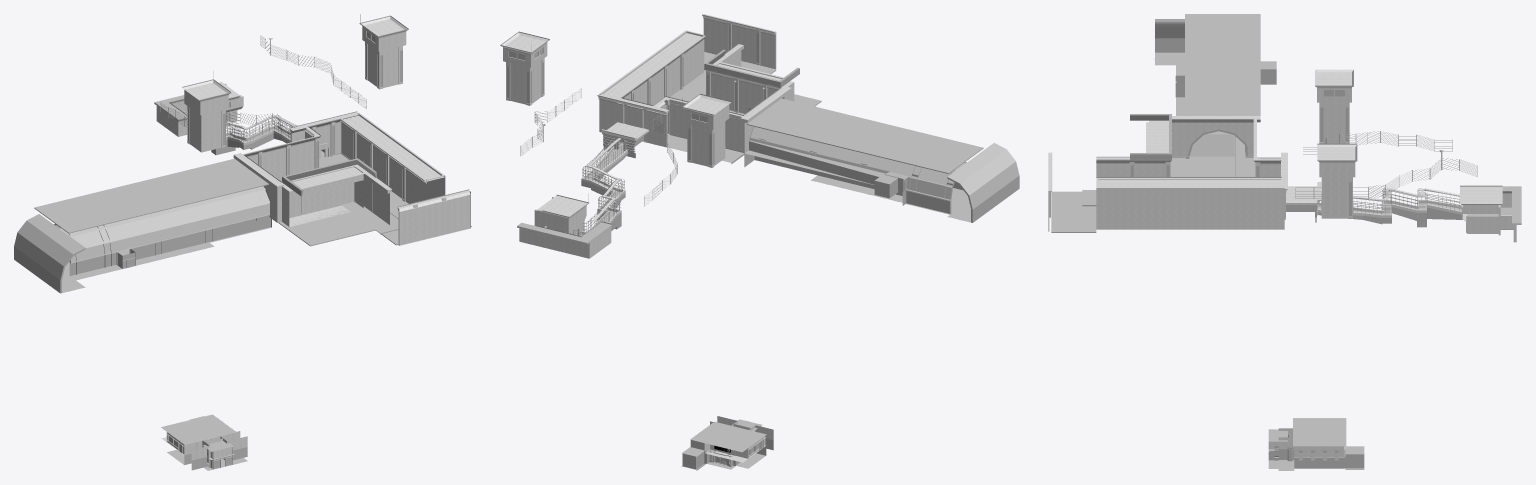
Rendered from exit1_opt.obj.
3 renders of one model, left to right at view 1: azimuth 30°, elevation 25°; view 2: azimuth 150°, elevation 25°; view 3: azimuth 270°, elevation 25°, orthographic. The views are drawn at different scales.
Bounding box in the file's own units: 17152 × 14784 × 15201.
